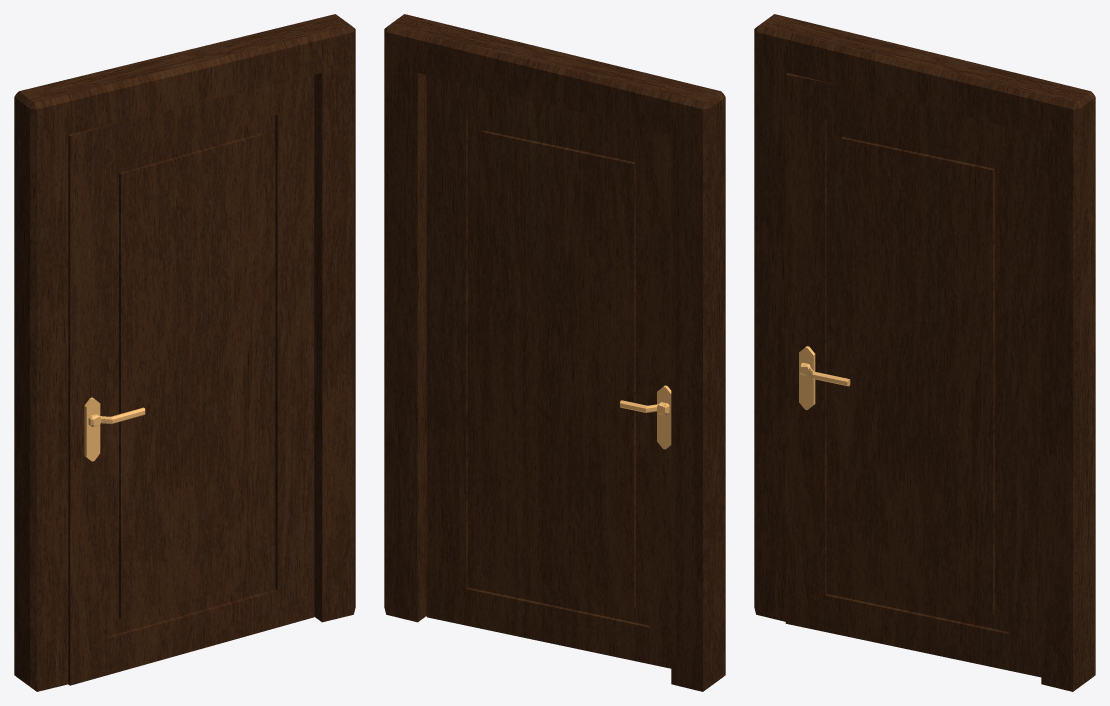
Rendered from Door model2.glb.
3 renders of one model, left to right at view 1: azimuth 30°, elevation 25°; view 2: azimuth 150°, elevation 25°; view 3: azimuth 330°, elevation 25°, orthographic.
Parts seen in each view (by area): view 1: Cube.001_Door_0, Cube_Frame_0; view 2: Cube.001_Door_0, Cube_Frame_0; view 3: Cube.001_Door_0, Cube_Frame_0.
Boxes of the visible parts, bbox=[...] form: Cube.001_Door_0: bbox=[68, 75, 314, 685]; Cube_Frame_0: bbox=[14, 14, 355, 691]; Cube.001_Door_0: bbox=[426, 75, 671, 668]; Cube_Frame_0: bbox=[384, 14, 725, 691]; Cube.001_Door_0: bbox=[785, 73, 1041, 677]; Cube_Frame_0: bbox=[754, 14, 1095, 691].
Size of the model in its own units: 3.16 by 5.44 by 0.513.
3 materials, 2 textured.
